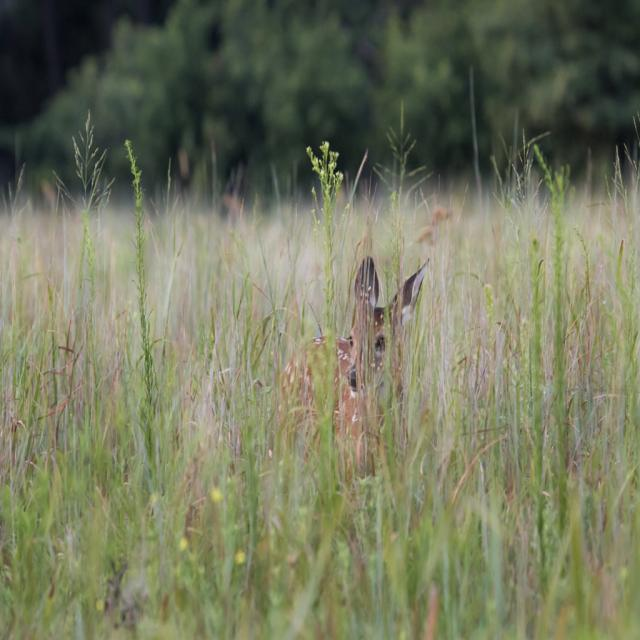Deer: (278, 256, 430, 494)
